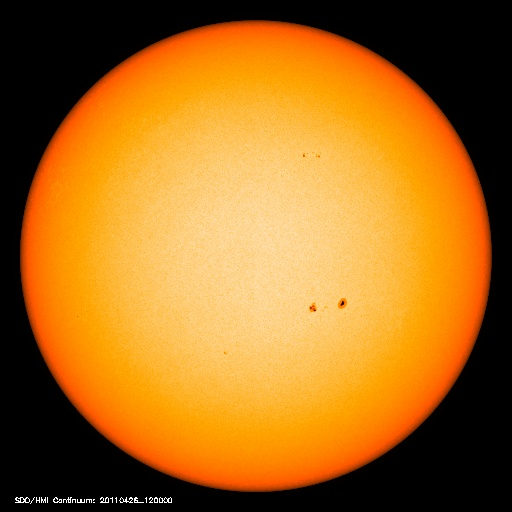sunspot: (301, 293, 356, 323), (292, 140, 331, 172)
